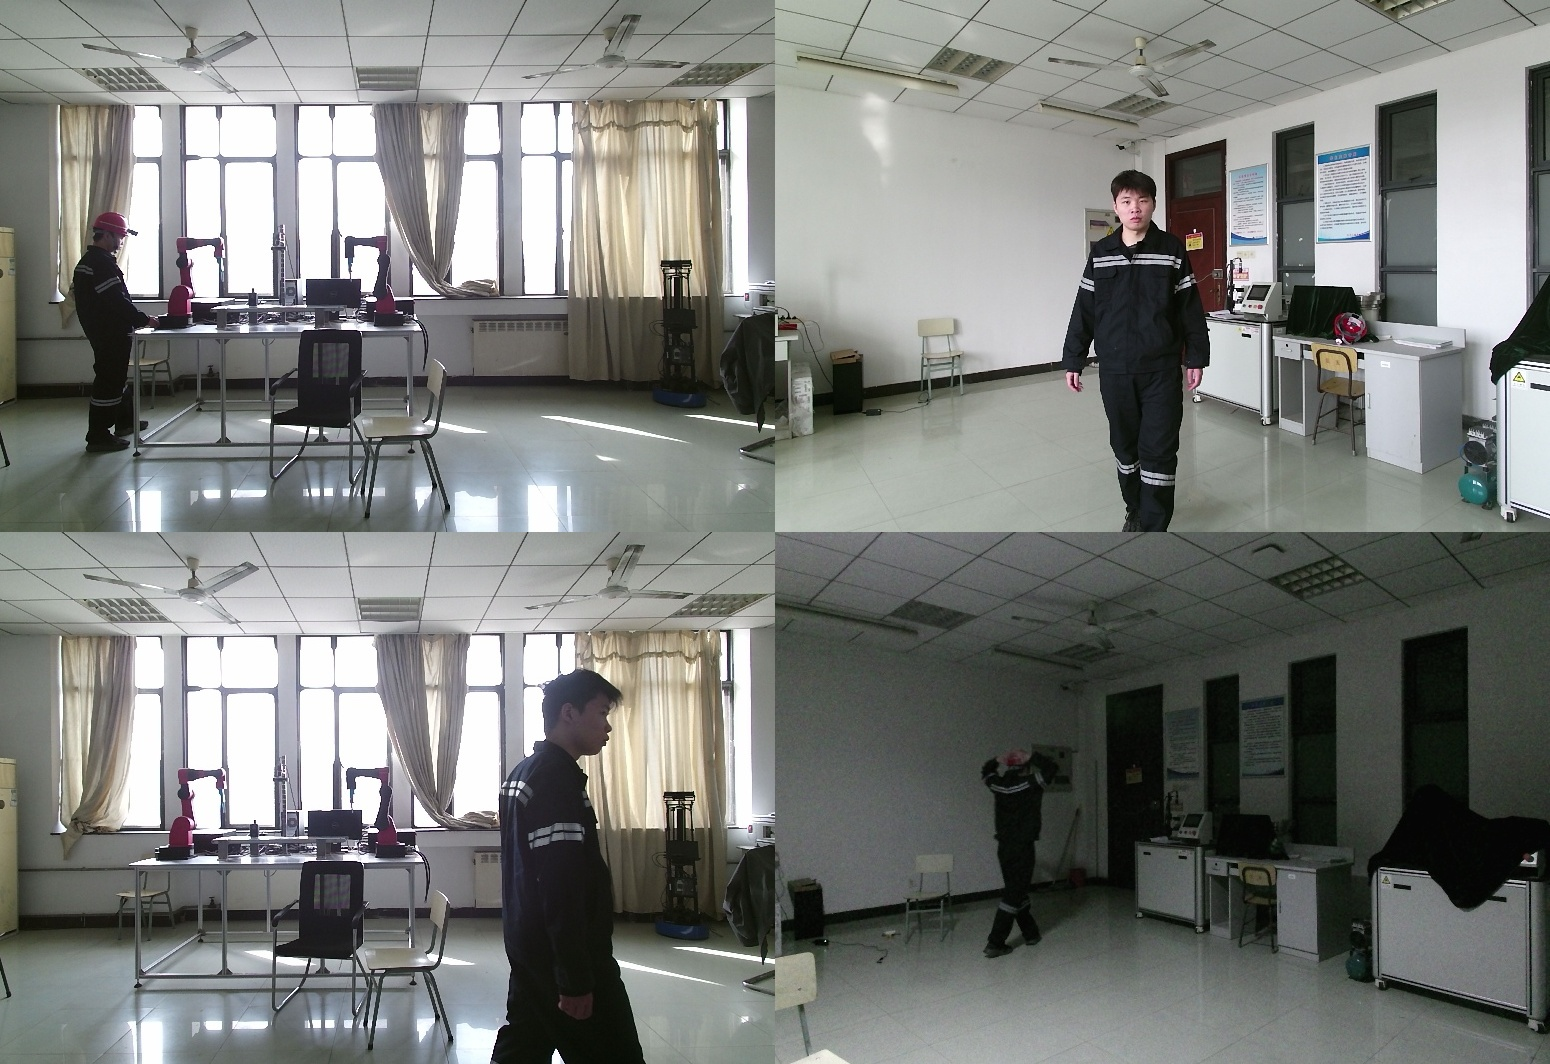person: (496, 674, 657, 1064), (1067, 172, 1216, 532), (71, 213, 161, 454), (970, 737, 1057, 972)
